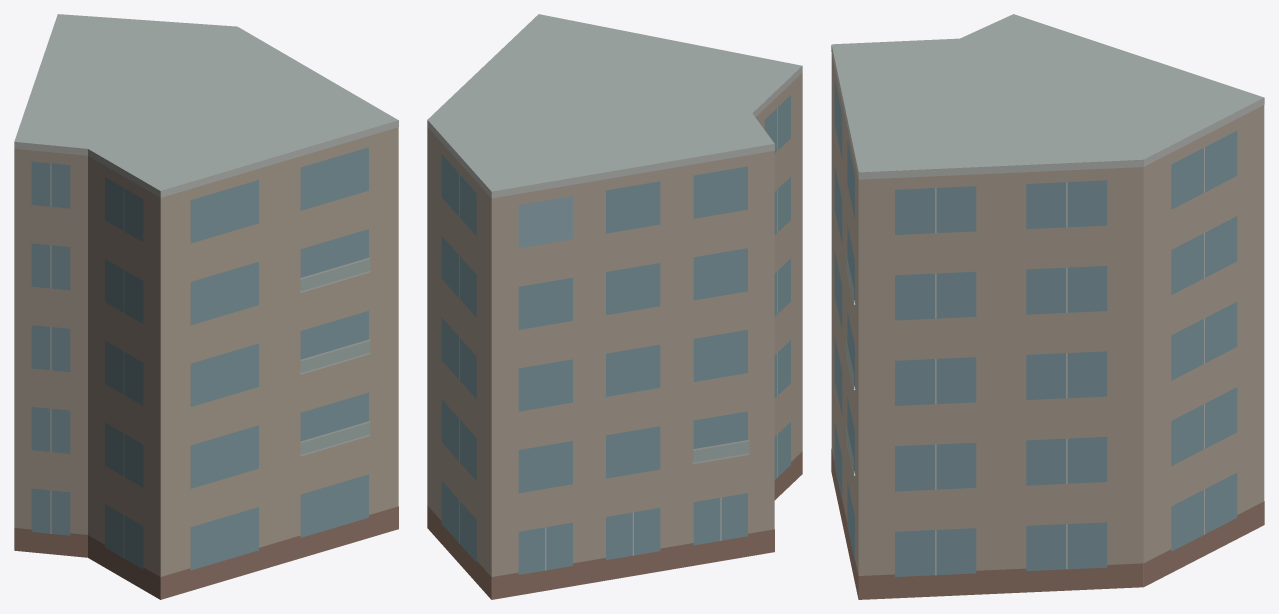
The model's file is survey-upis-32769658.glb.
3 renders of one model, left to right at view 1: azimuth 30°, elevation 25°; view 2: azimuth 150°, elevation 25°; view 3: azimuth 270°, elevation 25°, orthographic. The views are drawn at different scales.
Visible parts, largest first — view 1: survey-upis-32769658.tmp; view 2: survey-upis-32769658.tmp; view 3: survey-upis-32769658.tmp.
Part boxes in pixels (<box>): survey-upis-32769658.tmp: <box>14,14,398,599</box>; survey-upis-32769658.tmp: <box>427,14,802,599</box>; survey-upis-32769658.tmp: <box>831,14,1264,599</box>.
Bounding box in the file's own units: 11.48 × 14.43 × 13.26.
